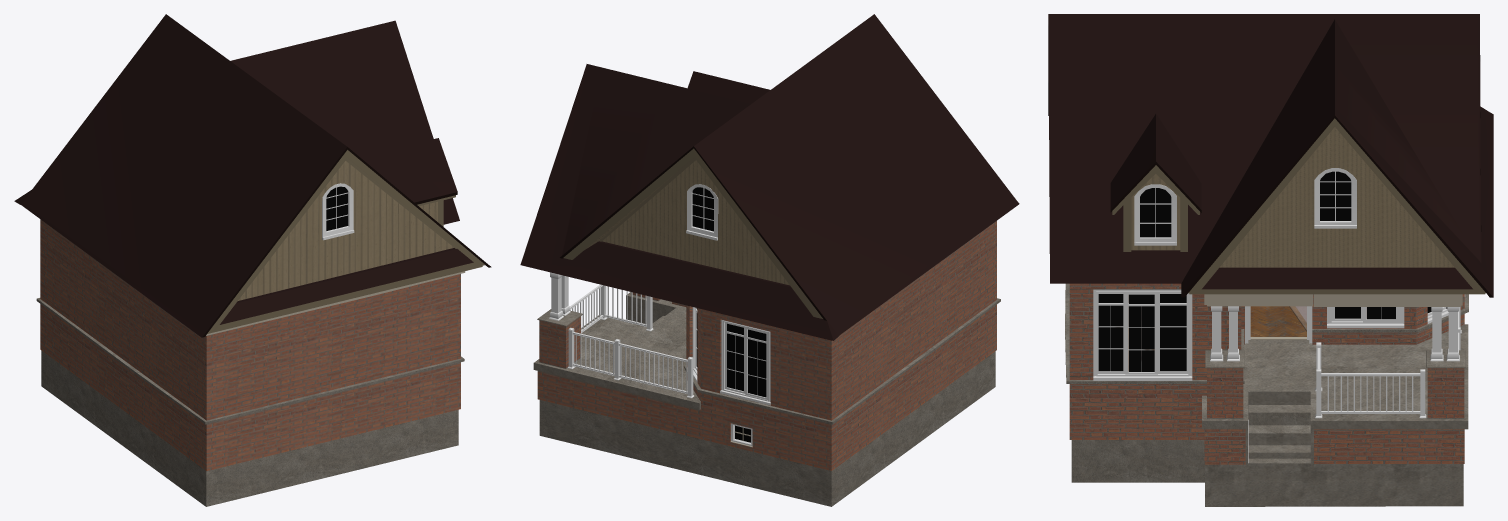
The picture shows the model from 3 angles, left to right: view 1: azimuth 30°, elevation 25°; view 2: azimuth 150°, elevation 25°; view 3: azimuth 270°, elevation 25°; orthographic projection. The views are drawn at different scales.
Visible parts, largest first — view 1: Vrch Vonok.001_4, Spodok vonok.001_0, Spodok vonok2.006_1, VnutroVrch_3; view 2: Vrch Vonok.001_4, Spodok vonok.001_0, Spodok vonok2.006_1, VnutroSpodok_2, VnutroVrch_3; view 3: Vrch Vonok.001_4, Spodok vonok2.006_1, Spodok vonok.001_0, VnutroSpodok_2, VnutroVrch_3.
Part boxes in pixels (x1=…): Vrch Vonok.001_4: x1=14, y1=14, x2=491, y2=337; Spodok vonok.001_0: x1=36, y1=219, x2=465, y2=470; Spodok vonok2.006_1: x1=41, y1=350, x2=458, y2=506; VnutroVrch_3: x1=322, y1=183, x2=354, y2=240; Vrch Vonok.001_4: x1=520, y1=14, x2=1019, y2=340; Spodok vonok.001_0: x1=537, y1=221, x2=1000, y2=470; Spodok vonok2.006_1: x1=533, y1=272, x2=995, y2=506; VnutroSpodok_2: x1=692, y1=307, x2=770, y2=405; VnutroVrch_3: x1=686, y1=184, x2=718, y2=240; Vrch Vonok.001_4: x1=1048, y1=14, x2=1493, y2=297; Spodok vonok2.006_1: x1=1071, y1=294, x2=1468, y2=506; Spodok vonok.001_0: x1=1065, y1=283, x2=1468, y2=464; VnutroSpodok_2: x1=1093, y1=289, x2=1465, y2=380; VnutroVrch_3: x1=1134, y1=168, x2=1356, y2=245.
Size of the model in its own units: 8.08 by 8.23 by 8.33.
Materials: 5 (5 with a texture image).
